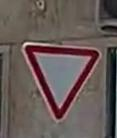cedencia de passagem: (14, 36, 104, 118)
